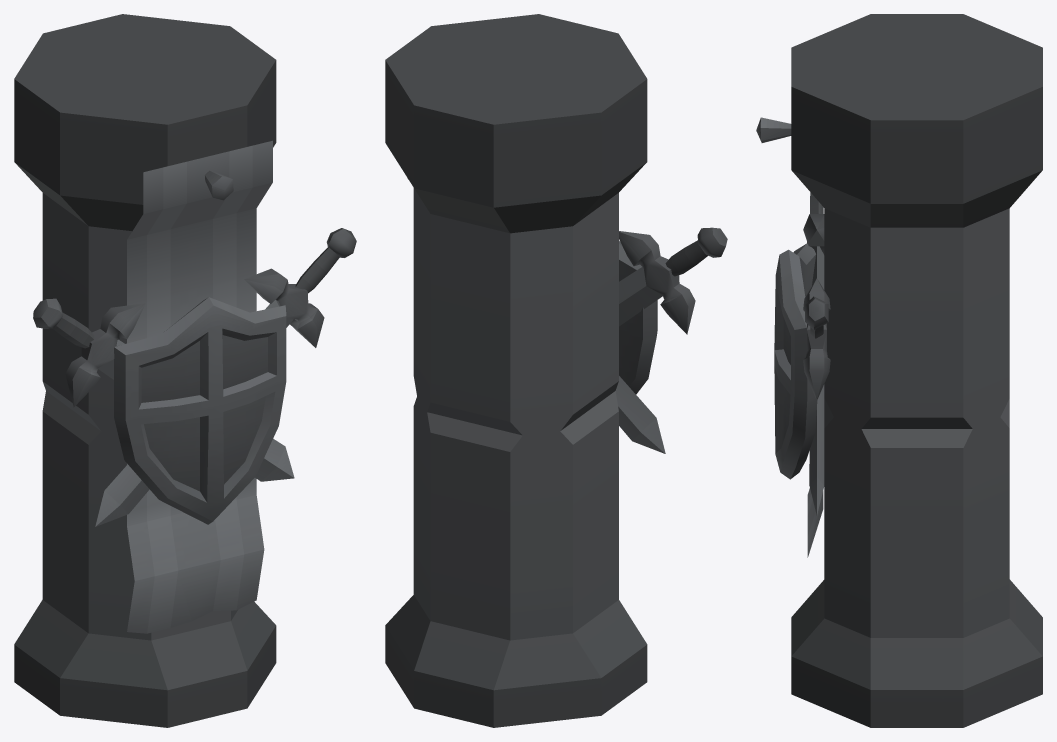
Rendered from ignivar_pillar_decorated.glb.
3 views of the same model, side by side, from view 1: azimuth 30°, elevation 25°; view 2: azimuth 150°, elevation 25°; view 3: azimuth 270°, elevation 25° (orthographic).
Visible parts, largest first — view 1: pillar_decorated; view 2: pillar_decorated; view 3: pillar_decorated.
Boxes of the visible parts, <box> form: pillar_decorated: <box>14,14,356,727</box>; pillar_decorated: <box>385,14,727,727</box>; pillar_decorated: <box>756,14,1042,727</box>.
Bounding box in the file's own units: 2.23 × 4 × 1.71.
1 material, 1 textured.
